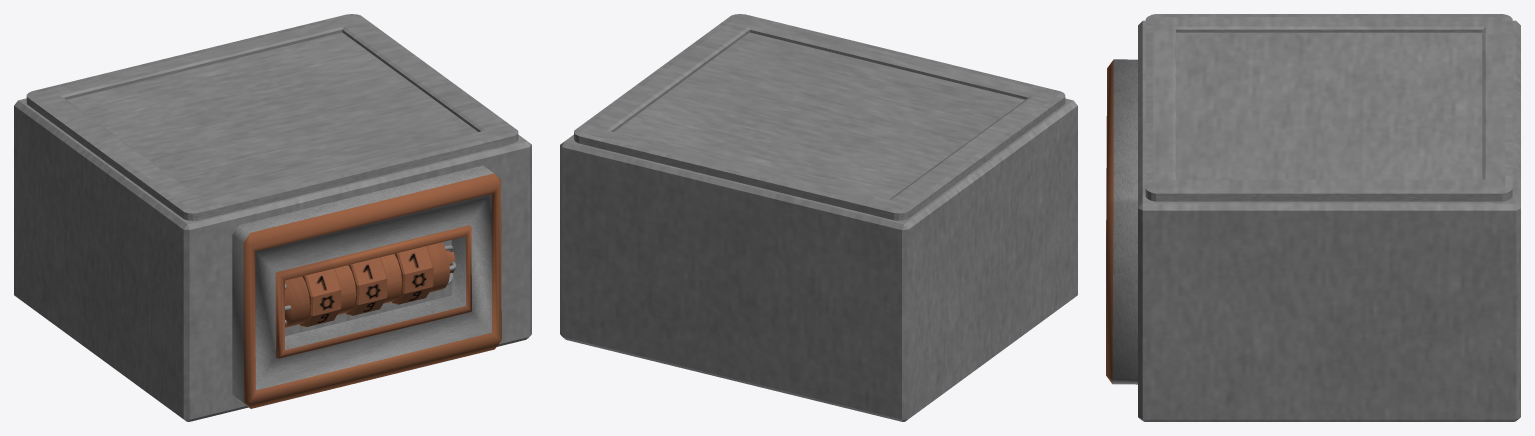
File: LE_Safe 1.fbx
3 renders of one model, left to right at view 1: azimuth 30°, elevation 25°; view 2: azimuth 150°, elevation 25°; view 3: azimuth 270°, elevation 25°, orthographic. The views are drawn at different scales.
Parts seen in each view (by area): view 1: Box, LE_Lock, LE_Door, Cylinder.003, Cylinder.001, Cylinder.002; view 2: Box, LE_Door; view 3: Box, LE_Door, LE_Lock.
Boxes of the visible parts, <box> form: Box: <box>14,14,531,421</box>; LE_Lock: <box>232,165,501,408</box>; LE_Door: <box>67,32,477,199</box>; Cylinder.003: <box>392,246,433,304</box>; Cylinder.001: <box>346,257,387,315</box>; Cylinder.002: <box>299,268,341,326</box>; Box: <box>560,14,1077,421</box>; LE_Door: <box>614,32,1024,199</box>; Box: <box>1138,14,1520,421</box>; LE_Door: <box>1176,32,1482,179</box>; LE_Lock: <box>1106,59,1137,384</box>.
Size of the model in its own units: 18.19 by 10.27 by 17.02.
Materials: 4 (4 with a texture image).
